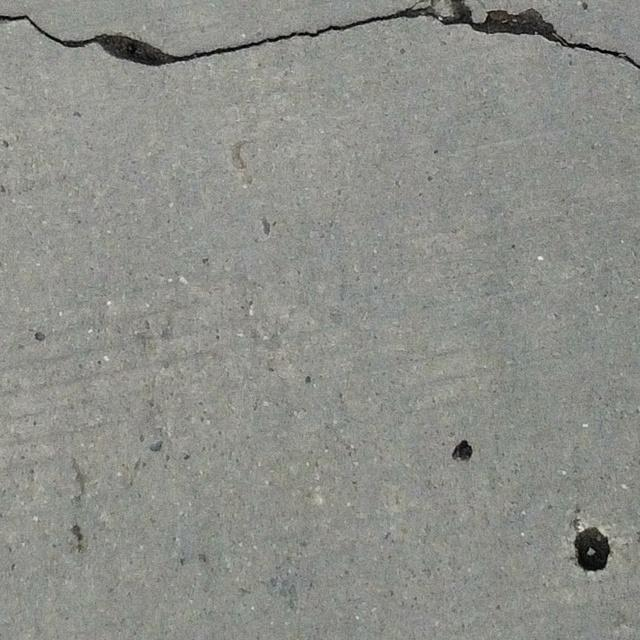TransverseCrack: (1, 1, 640, 68)
